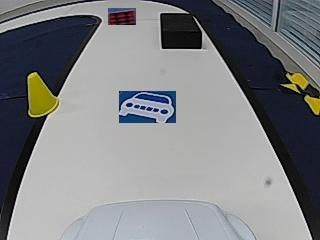block: (160, 13, 202, 48)
cone: (28, 72, 60, 117)
